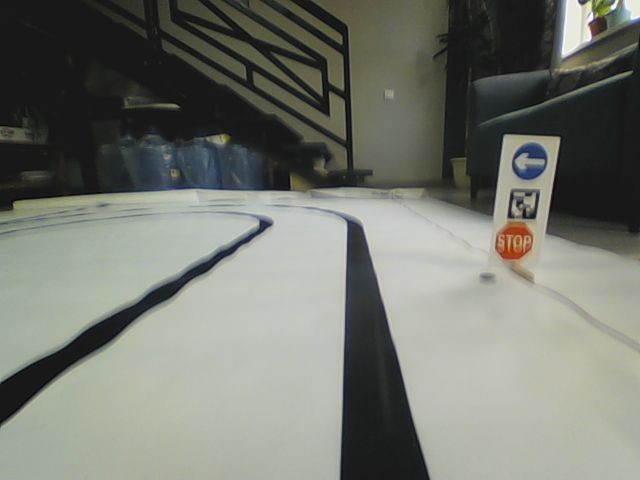Stop: (493, 221, 535, 260)
